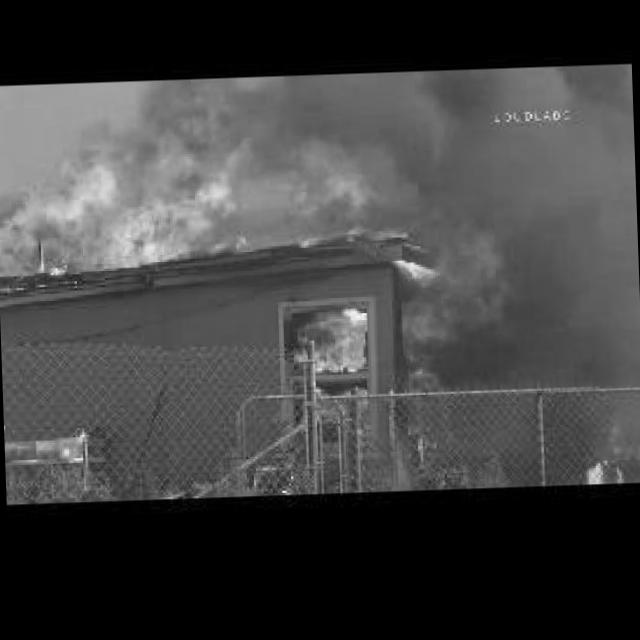fire: (384, 216, 495, 344), (280, 286, 376, 378)
smoke: (239, 66, 636, 240)
